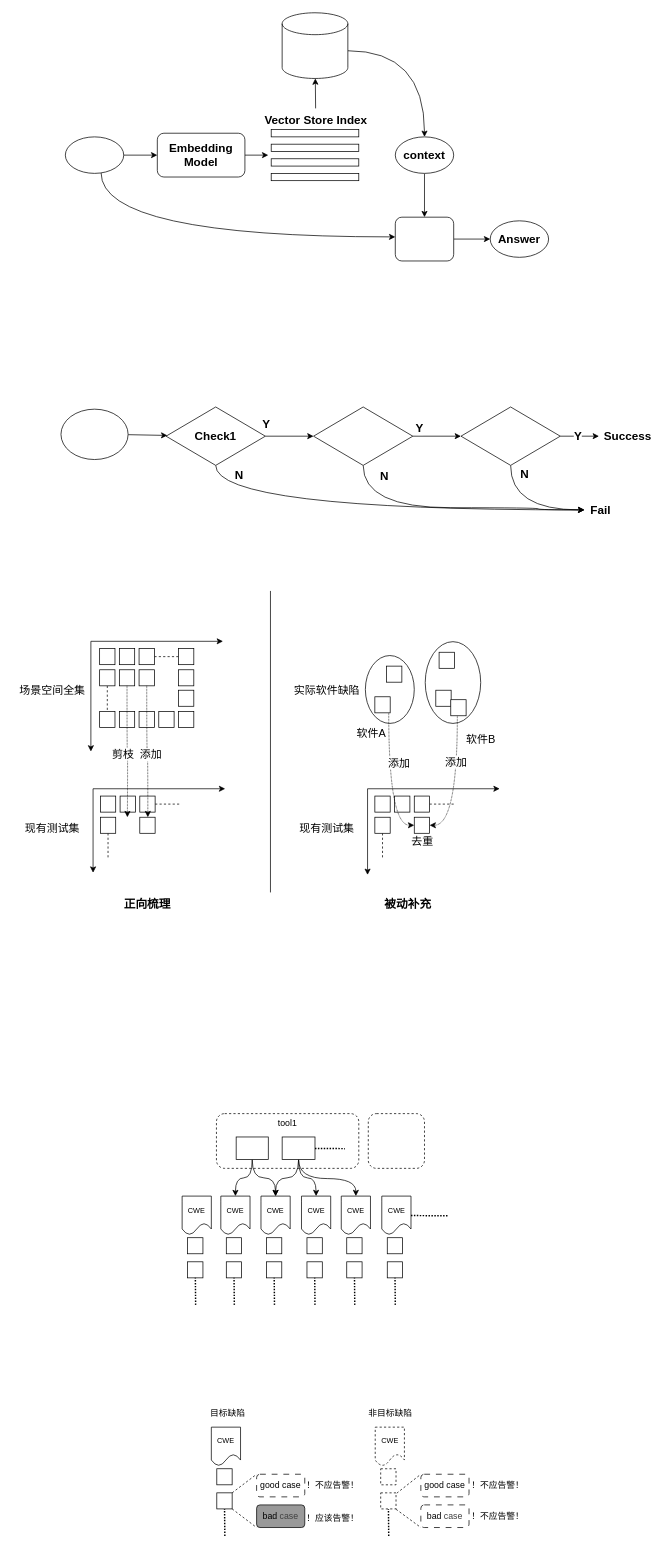
This 668x1550 diagram has some shape labels left out. The box of each missing label's shape, as (x1, y1, x2, y2) in pixels:
Check2: (313, 406, 413, 465)
LLM: (395, 216, 454, 261)
More Check: (460, 406, 560, 465)
Query: (65, 136, 124, 173)
R eference Database: (281, 12, 348, 78)
R esult: (60, 408, 128, 460)
rule1: (235, 1136, 268, 1160)
rule2: (281, 1136, 315, 1160)
tool2: (368, 1113, 424, 1168)
